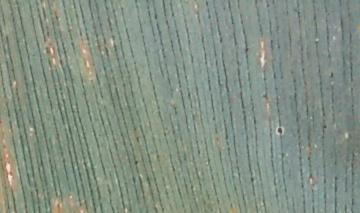tarspot: (320, 124, 327, 137), (275, 126, 283, 136), (328, 70, 335, 80), (264, 1, 271, 9), (244, 45, 249, 53), (133, 160, 138, 167)
